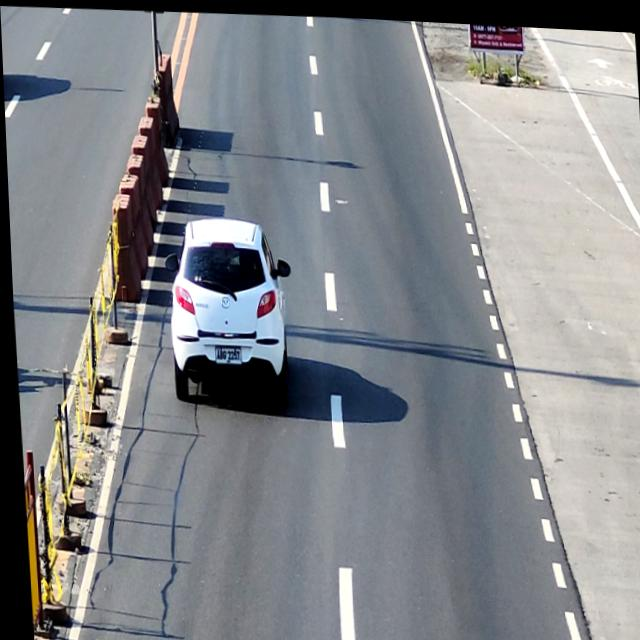Car: (159, 211, 296, 412)
License-Plate: (211, 345, 239, 363)
